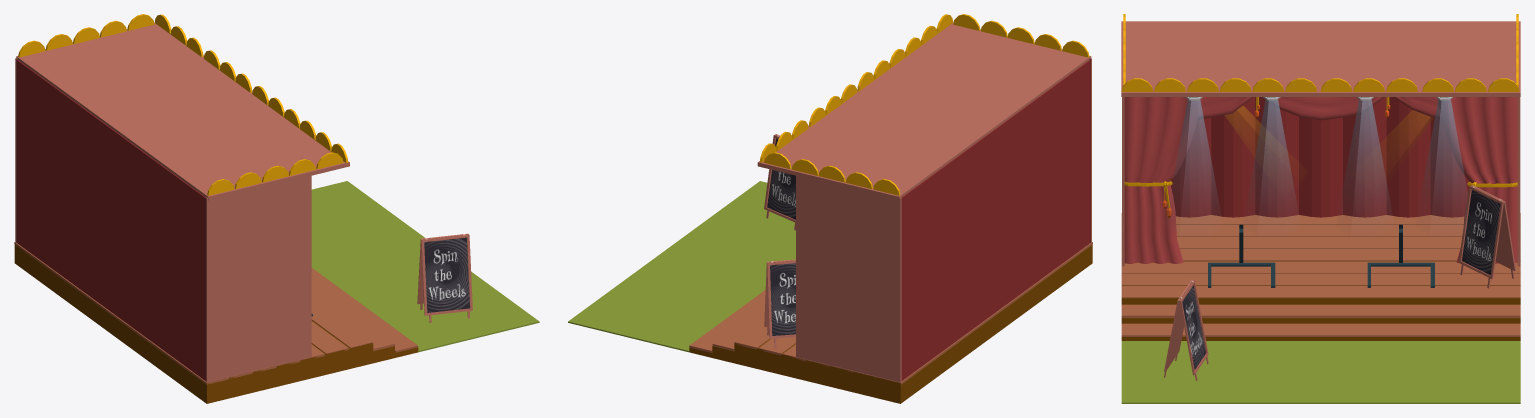
The model's file is Theatre.gltf.
3 renders of one model, left to right at view 1: azimuth 30°, elevation 25°; view 2: azimuth 150°, elevation 25°; view 3: azimuth 270°, elevation 25°, orthographic. The views are drawn at different scales.
Parts seen in each view (by area): view 1: Cube.001, Cube, Cube.006, Cube.008, Cube.003; view 2: Cube.001, Cube, Cube.006, Cube.008, Cube.007, Cube.003; view 3: Cube, Cube.001, Cube.006, Cylinder.007, Cube.002, Cube.005, Cube.004, Cube.007, Plane.002, Cube.003, Cube.008, Cylinder.009 (+4 smaller).
Boxes of the visible parts, left/top/right/bottom form: Cube.001: left=16, top=60, right=205, bottom=380; Cube: left=14, top=181, right=539, bottom=403; Cube.006: left=16, top=23, right=349, bottom=200; Cube.008: left=15, top=58, right=311, bottom=382; Cube.003: left=417, top=233, right=472, bottom=322; Cube.001: left=901, top=60, right=1090, bottom=380; Cube: left=568, top=181, right=1092, bottom=403; Cube.006: left=757, top=23, right=1091, bottom=200; Cube.008: left=796, top=58, right=1091, bottom=382; Cube.007: left=764, top=259, right=795, bottom=348; Cube.003: left=764, top=134, right=795, bottom=230; Cube: left=1121, top=213, right=1520, bottom=403; Cube.001: left=1171, top=97, right=1469, bottom=217; Cube.006: left=1121, top=21, right=1520, bottom=96; Cylinder.007: left=1171, top=99, right=1466, bottom=200; Cube.002: left=1438, top=97, right=1517, bottom=263; Cube.005: left=1124, top=97, right=1201, bottom=182; Cube.004: left=1124, top=182, right=1183, bottom=263; Cube.007: left=1458, top=185, right=1516, bottom=288; Plane.002: left=1198, top=97, right=1441, bottom=120; Cube.003: left=1164, top=279, right=1208, bottom=380; Cube.008: left=1122, top=97, right=1520, bottom=266; Cylinder.009: left=1225, top=106, right=1260, bottom=143.
Size of what is drawn, in the model's own units: 10.01 by 6.35 by 10.01.
3 materials, 3 textured.
